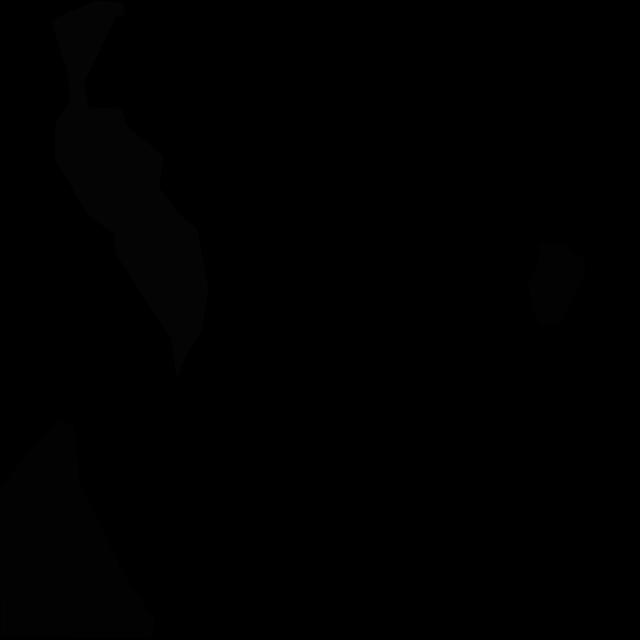cardboard: (0, 419, 156, 639), (528, 242, 586, 327)
soft_plastic: (51, 0, 208, 380)
